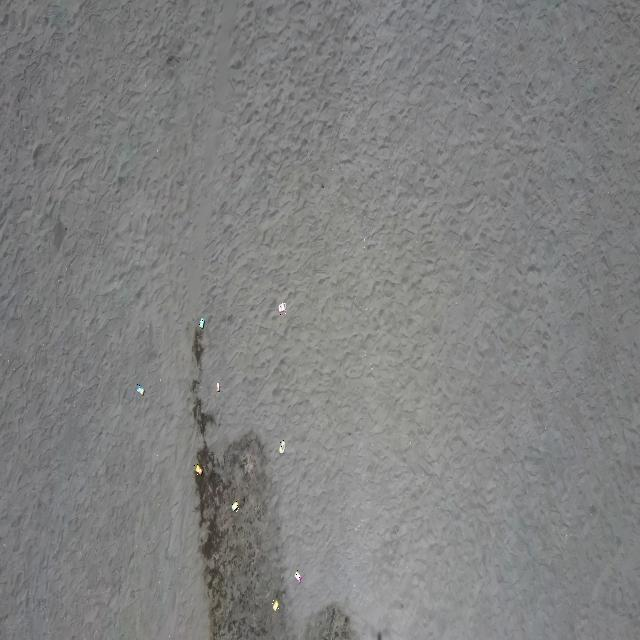Garbage: (293, 569, 301, 583), (278, 301, 286, 315), (193, 463, 201, 475), (231, 500, 239, 511), (272, 599, 279, 611), (136, 384, 143, 395), (278, 441, 284, 452), (199, 316, 204, 328), (216, 382, 219, 391)
